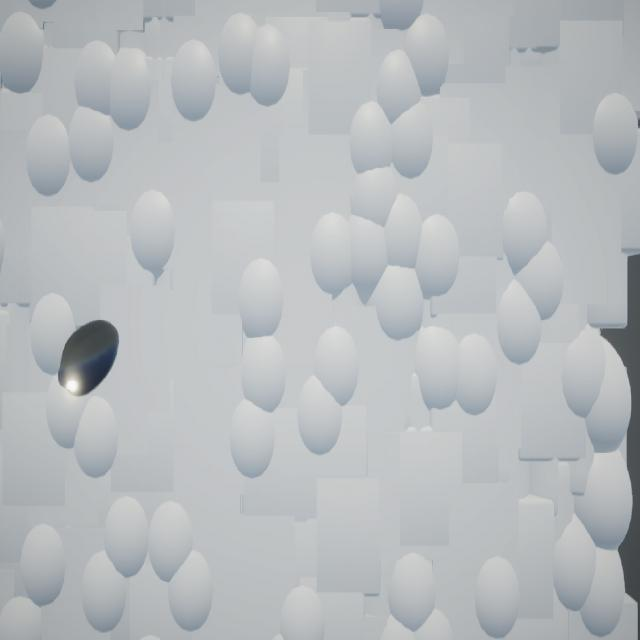top_spoon: (58, 321, 120, 398)
